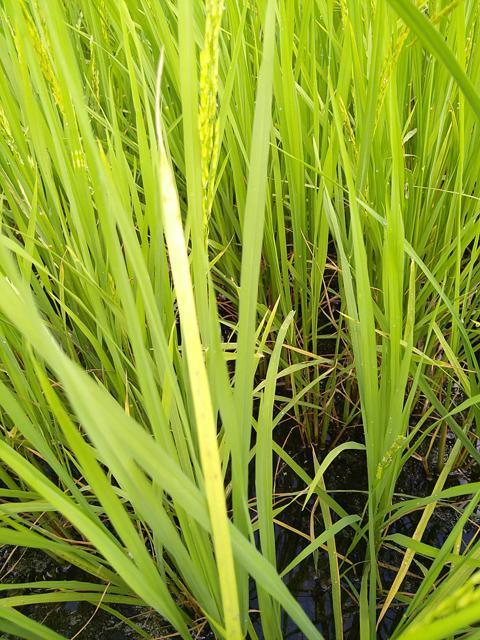Leaf Blight: (157, 53, 231, 579)
